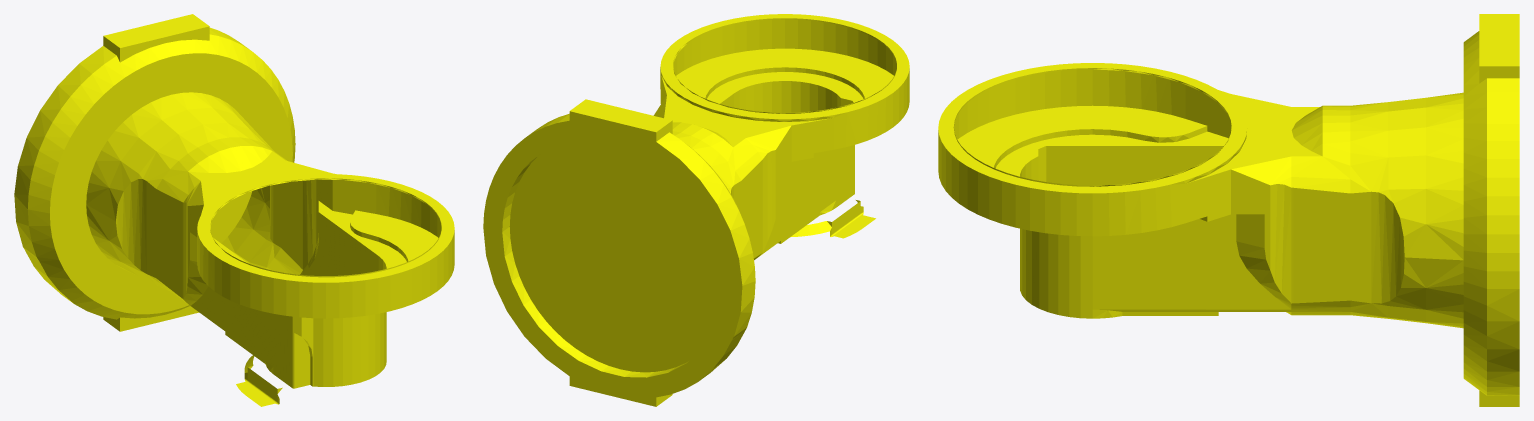
3 renders of one model, left to right at view 1: azimuth 30°, elevation 25°; view 2: azimuth 150°, elevation 25°; view 3: azimuth 270°, elevation 25°, orthographic. The views are drawn at different scales.
Parts seen in each view (by area): view 1: node; view 2: node; view 3: node.
Boxes of the visible parts, <box> form: node: <box>14,14,454,406</box>; node: <box>483,14,909,406</box>; node: <box>938,14,1519,406</box>.
Size of the model in its own units: 239 by 242 by 374.
